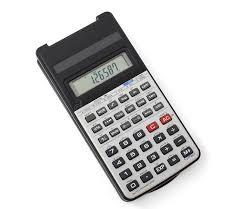Calculator: (30, 8, 210, 204)
